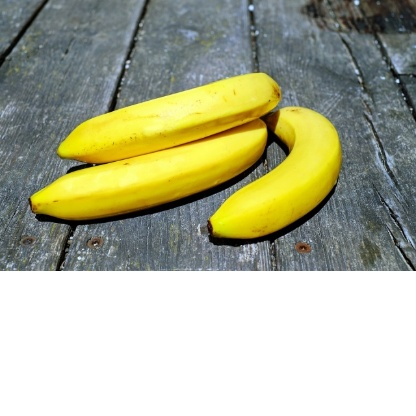chuoi: (27, 63, 356, 269)
